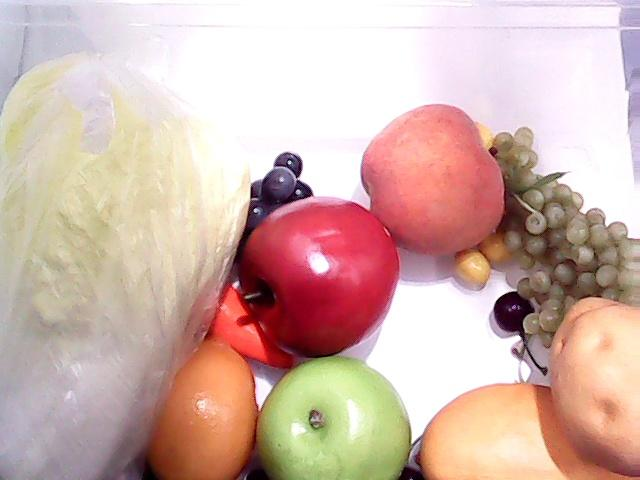apple: (235, 192, 402, 364), (252, 358, 410, 480)
carrot: (202, 284, 292, 373)
grape: (500, 151, 640, 294), (264, 148, 316, 204)
lemon: (134, 319, 270, 480)
mango: (415, 379, 633, 480)
napa cabbage: (0, 47, 223, 480)
peach: (360, 103, 504, 253)
potato: (550, 296, 640, 478)
